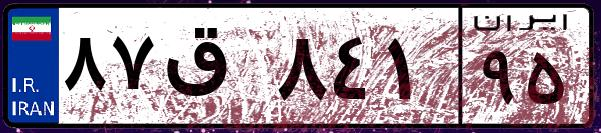1: (385, 28, 445, 110)
4: (330, 28, 385, 110)
5: (525, 38, 570, 115)
7: (110, 28, 158, 98)
8: (270, 28, 330, 110), (57, 26, 110, 100)
9: (475, 38, 525, 113)
ق: (158, 20, 270, 120)
